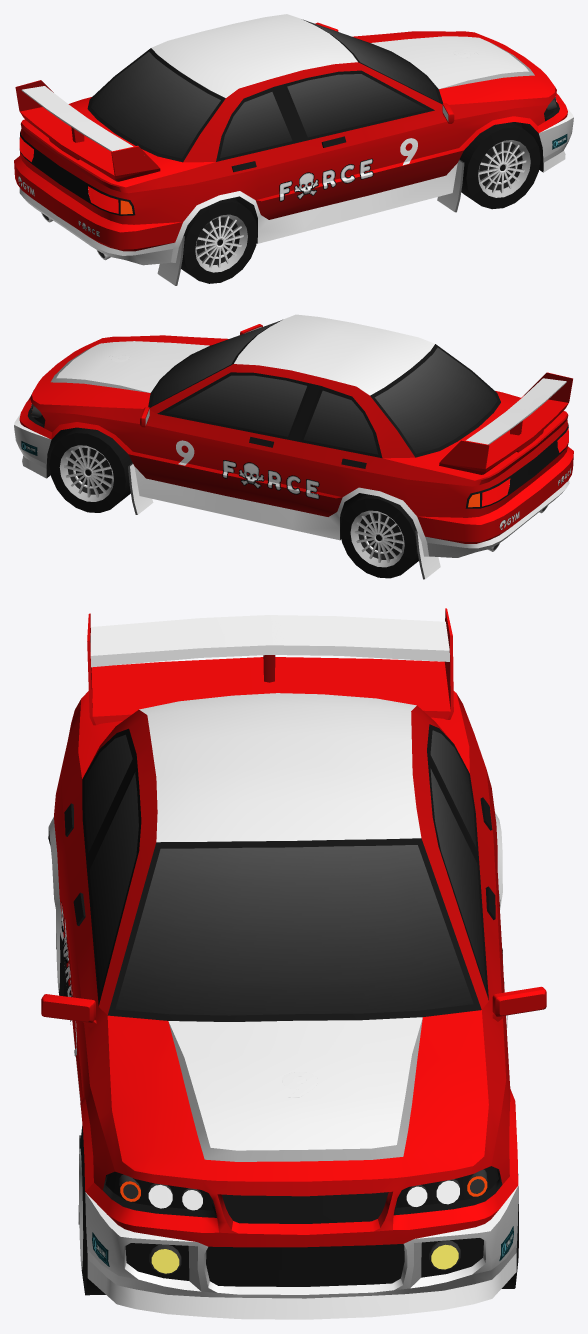
Rendered from RaceCar_104.glb.
3 views of the same model, one above another, from view 1: azimuth 30°, elevation 25°; view 2: azimuth 150°, elevation 25°; view 3: azimuth 270°, elevation 25° (orthographic). The views are drawn at different scales.
Parts seen in each view (by area): view 1: RaceCar_104, wheel_1_RaceCar_104_Wheel_1R, wheel_2_RaceCar_104_Wheel_2R; view 2: RaceCar_104, wheel_0_RaceCar_104_Wheel_1L, wheel_3_RaceCar_104_Wheel_3L; view 3: RaceCar_104, wheel_1_RaceCar_104_Wheel_1R.
Boxes of the visible parts, x1,y1,x2,y2 form: RaceCar_104: (14, 14, 573, 285); wheel_1_RaceCar_104_Wheel_1R: (459, 122, 540, 209); wheel_2_RaceCar_104_Wheel_2R: (181, 198, 257, 283); RaceCar_104: (14, 314, 573, 579); wheel_0_RaceCar_104_Wheel_1L: (49, 427, 132, 512); wheel_3_RaceCar_104_Wheel_3L: (340, 494, 418, 578); RaceCar_104: (41, 608, 546, 1319); wheel_1_RaceCar_104_Wheel_1R: (79, 1125, 105, 1295).
Bounding box in the file's own units: 4.15 × 1.4 × 1.88.
3 materials, 3 textured.
